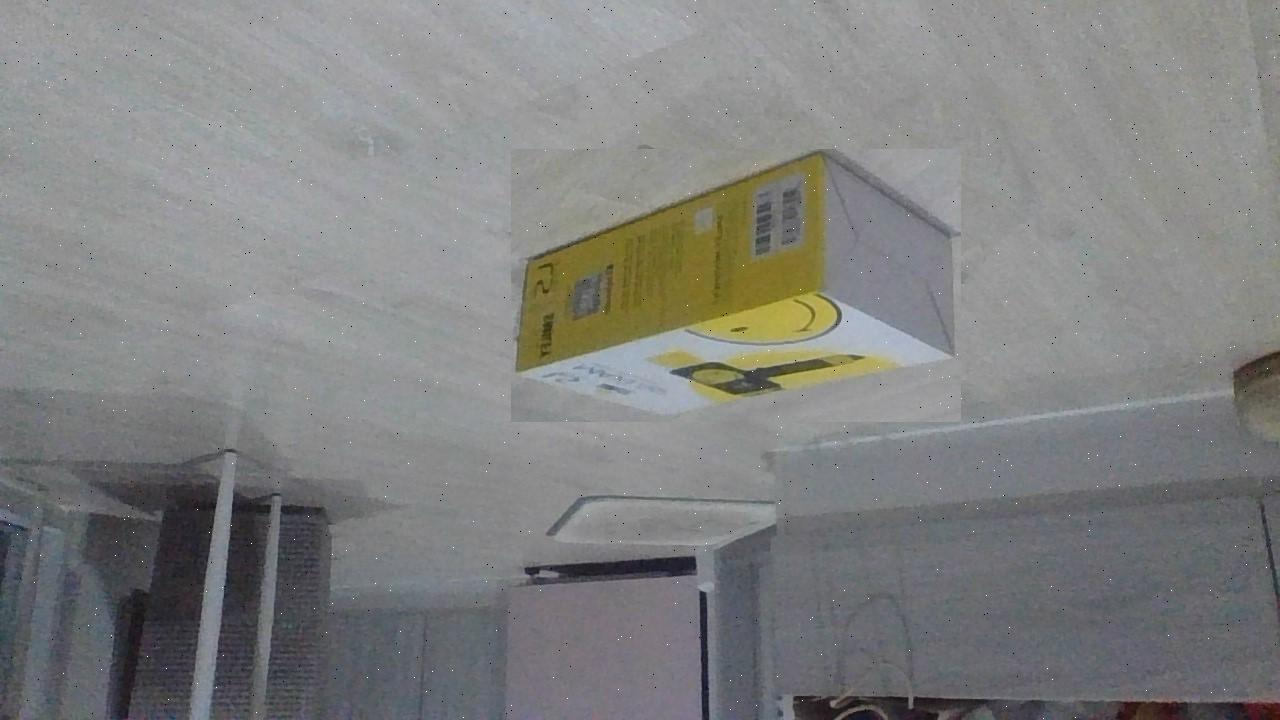Dryer: (511, 149, 961, 422)
